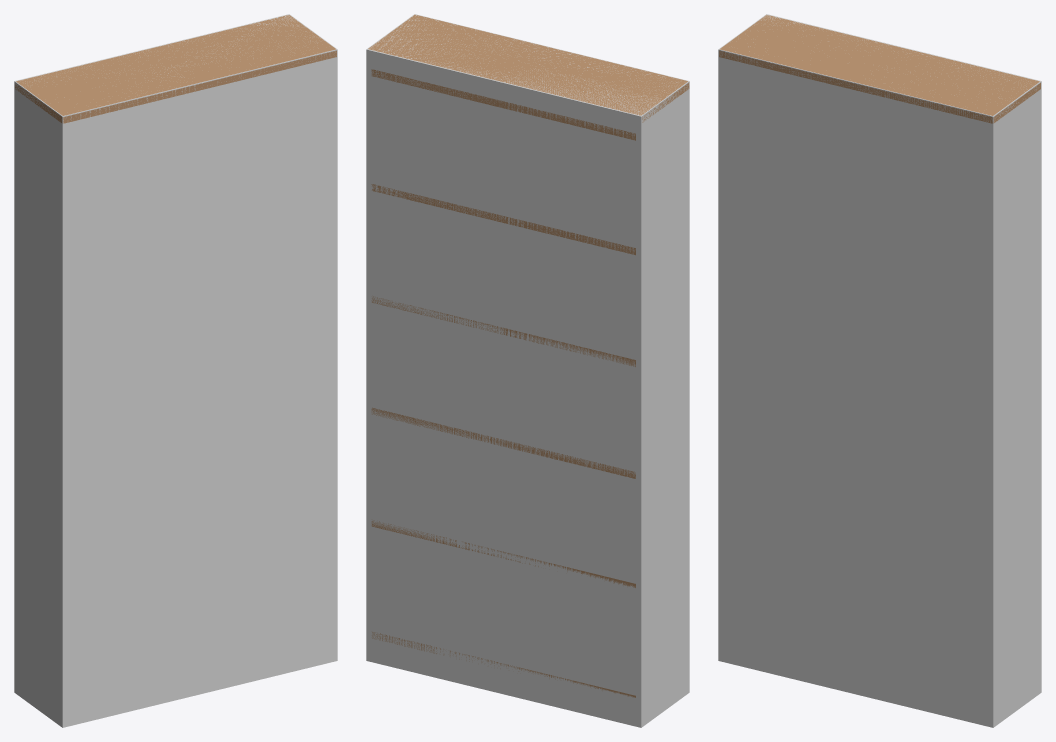
Rendered from butlers_dry_shelf.glb.
The picture shows the model from 3 angles, left to right: view 1: azimuth 30°, elevation 25°; view 2: azimuth 150°, elevation 25°; view 3: azimuth 330°, elevation 25°; orthographic projection.
Visible parts, largest first — view 1: butlers_dry_shelf_001_back_COL, butlers_dry_shelf_011_top_cornice; view 2: butlers_dry_shelf_001_back_COL, butlers_dry_shelf_011_top_cornice, butlers_dry_shelf_009_oak_shelf_5, butlers_dry_shelf_008_oak_shelf_4, butlers_dry_shelf_006_oak_shelf_2, butlers_dry_shelf_007_oak_shelf_3, butlers_dry_shelf_005_oak_shelf_1, butlers_dry_shelf_004_oak_shelf_0; view 3: butlers_dry_shelf_001_back_COL, butlers_dry_shelf_011_top_cornice.
Boxes of the visible parts, x1,y1,x2,y2 form: butlers_dry_shelf_001_back_COL: (14,14,337,727); butlers_dry_shelf_011_top_cornice: (15,15,336,123); butlers_dry_shelf_001_back_COL: (366,14,689,727); butlers_dry_shelf_011_top_cornice: (368,14,689,122); butlers_dry_shelf_009_oak_shelf_5: (371,69,635,140); butlers_dry_shelf_008_oak_shelf_4: (371,184,635,255); butlers_dry_shelf_006_oak_shelf_2: (371,407,635,478); butlers_dry_shelf_007_oak_shelf_3: (371,296,635,366); butlers_dry_shelf_005_oak_shelf_1: (371,520,635,587); butlers_dry_shelf_004_oak_shelf_0: (372,632,635,697); butlers_dry_shelf_001_back_COL: (718,14,1041,727); butlers_dry_shelf_011_top_cornice: (719,15,1040,123).
Bounding box in the file's own units: 1.05 × 2.24 × 0.322.
